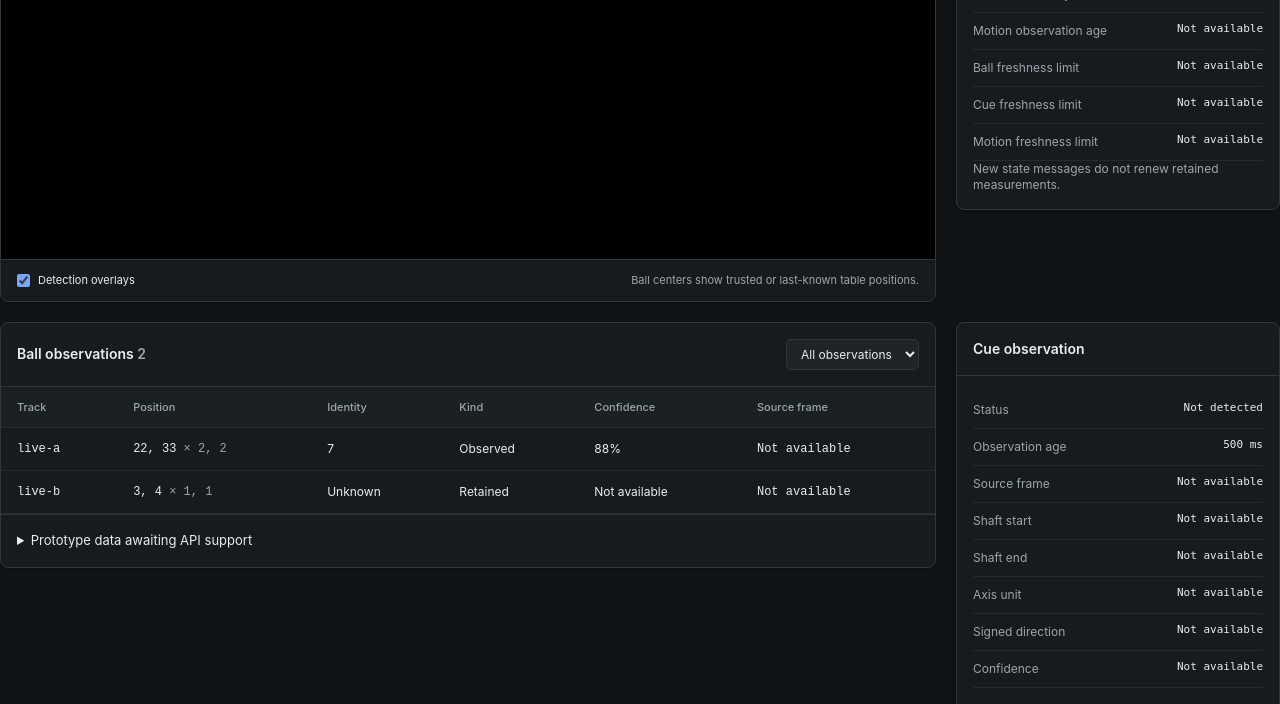
Diagnostics evidence › shows API coordinates, identity and confidence and filters retained evidence
This screenshot has width=1280, height=704.
(page scrolled)
Expected: the text "live-a" is shown, [1,428,117,470]
Expected: the text "88%" is shown, [578,428,741,470]
Select "Retained" in the dropdown named "Filter ball observations" at [852, 354], box [786,338,919,370]
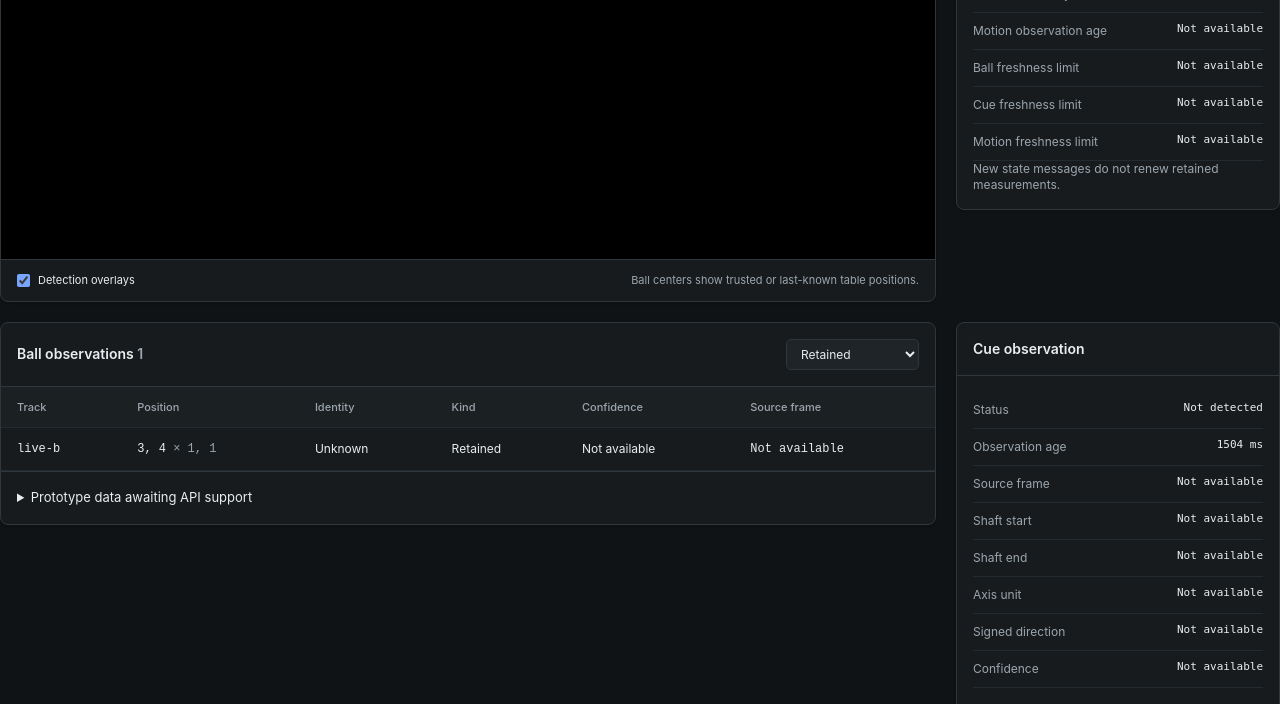
Expected: the text "live-b" is shown, [1,428,121,470]
Result: the text "live-a" is gone
